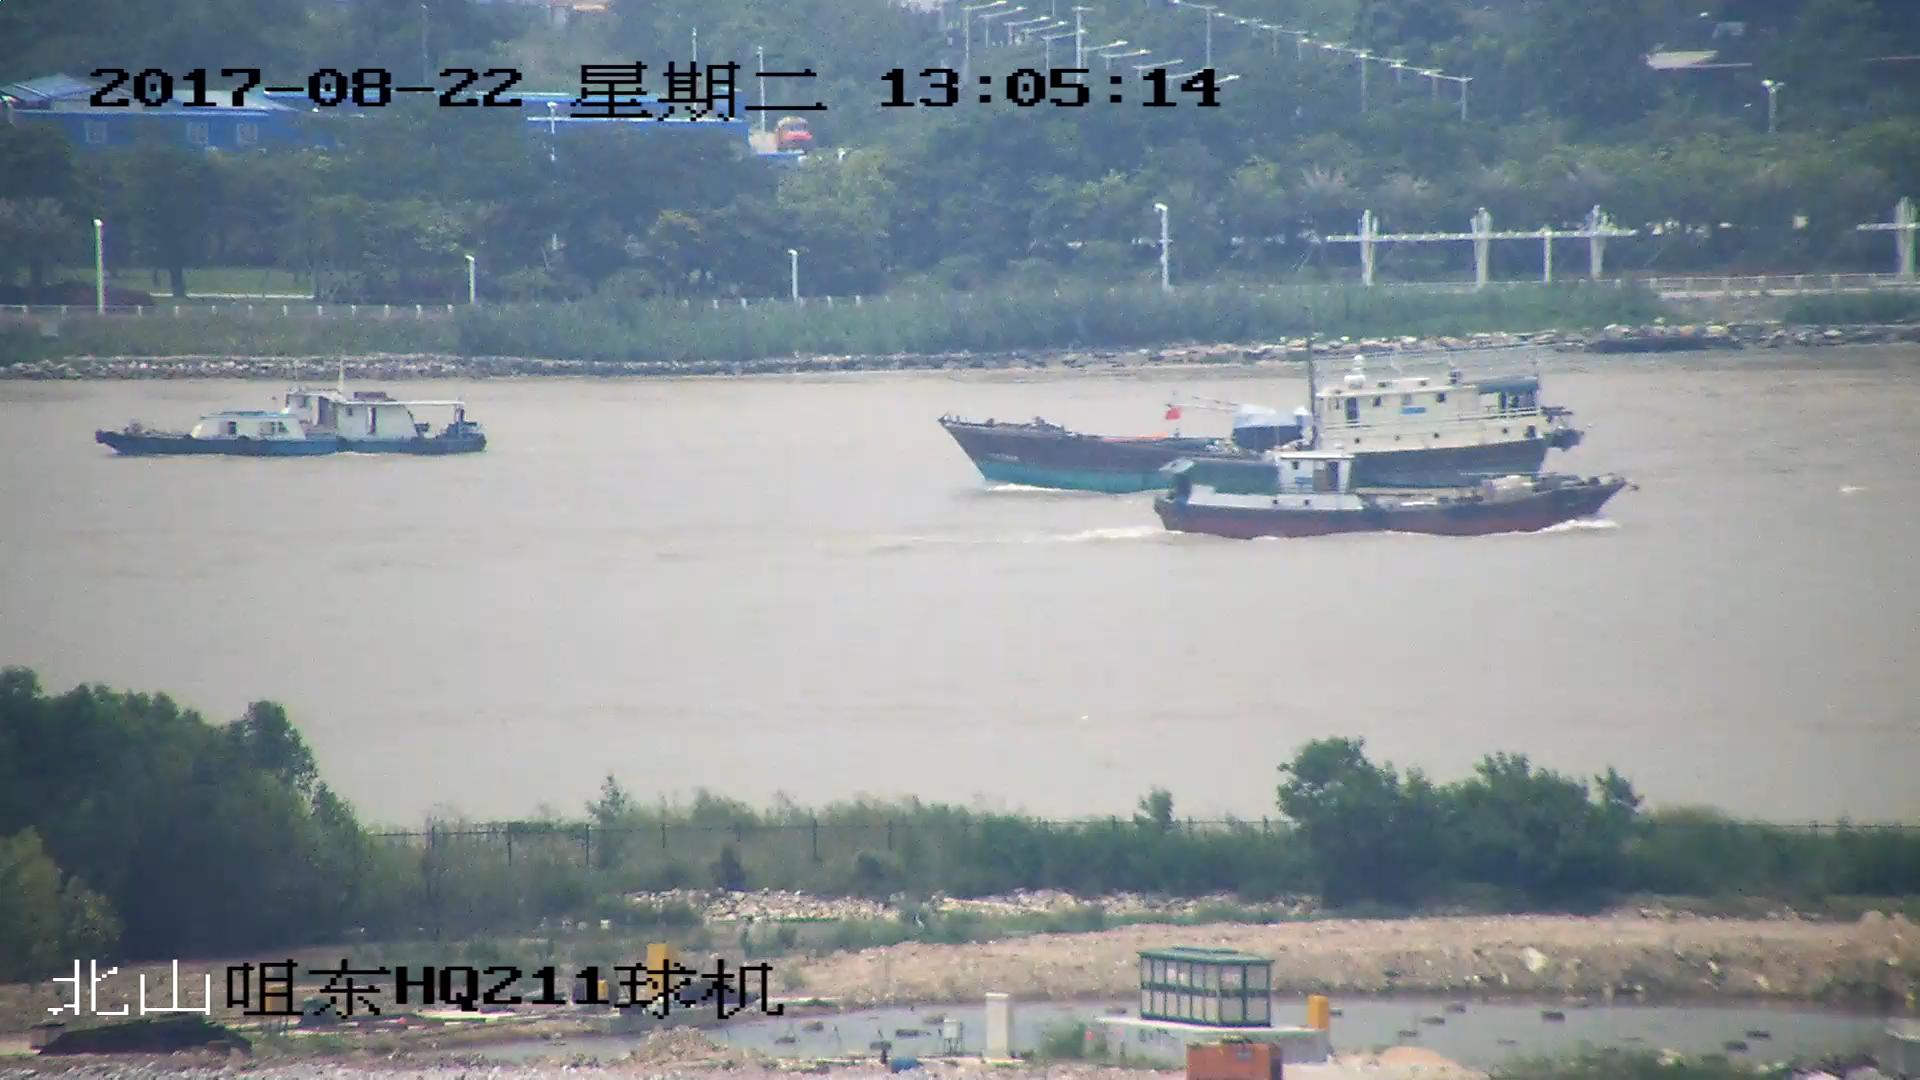fishing boat: (942, 333, 1582, 497), (1155, 412, 1640, 541), (93, 365, 484, 461)
